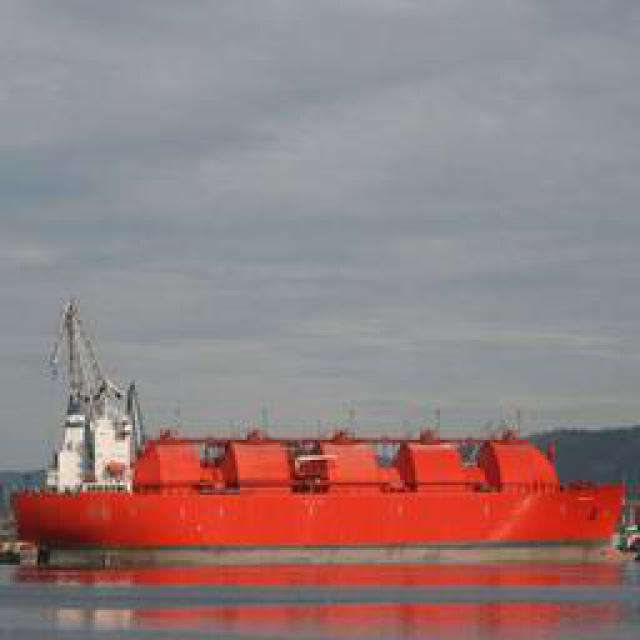Ship: (11, 419, 629, 574)
